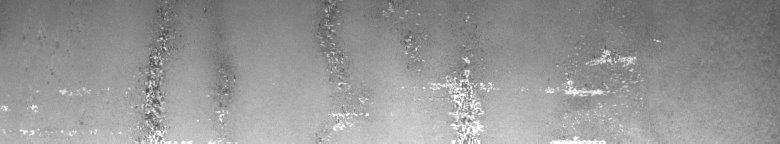hc: (4, 7, 236, 136)
